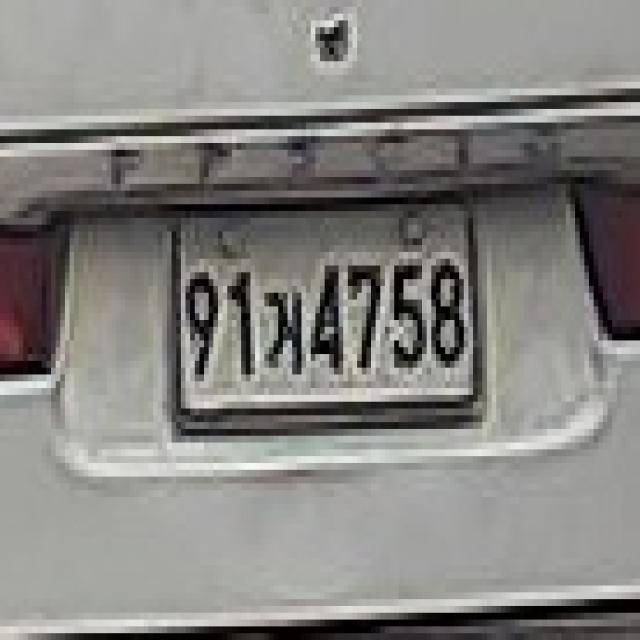plat: (172, 204, 482, 432)
